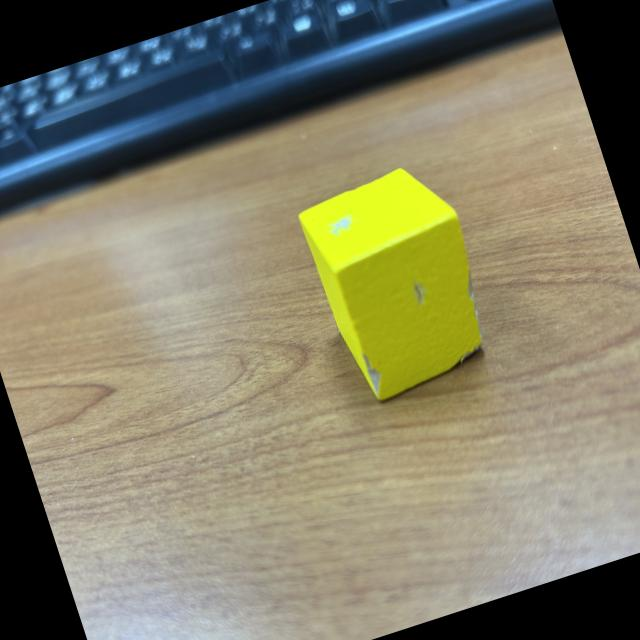broken: (292, 154, 506, 410)
